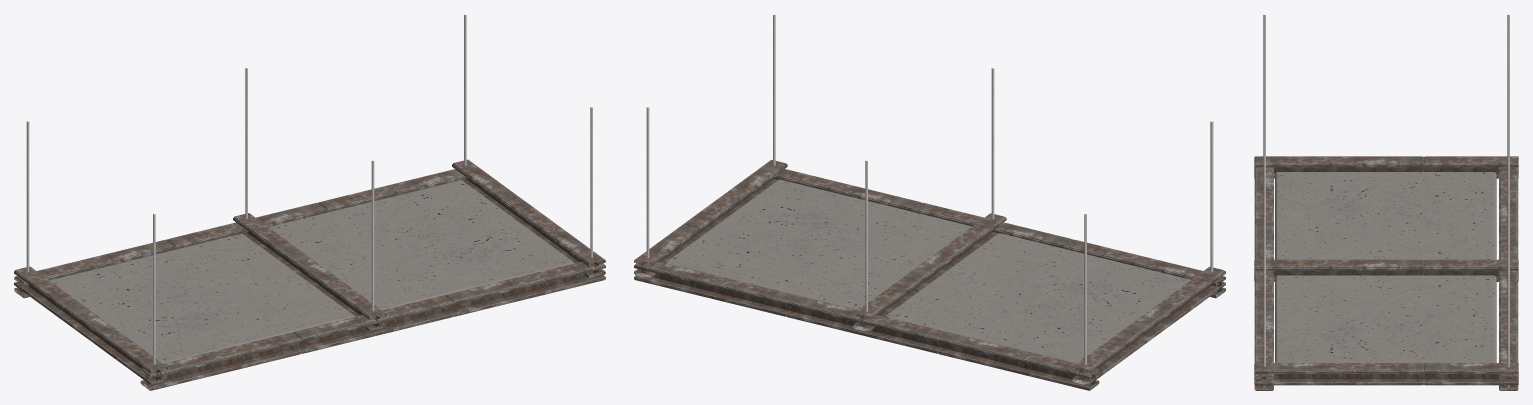
Rendered from SM_Ceiling_Scaffold_Half.glb.
3 views of the same model, side by side, from view 1: azimuth 30°, elevation 25°; view 2: azimuth 150°, elevation 25°; view 3: azimuth 270°, elevation 25° (orthographic). The views are drawn at different scales.
Parts seen in each view (by area): view 1: SM_Ceiling_Scaffold_Half; view 2: SM_Ceiling_Scaffold_Half; view 3: SM_Ceiling_Scaffold_Half.
Part boxes in pixels (<box>): SM_Ceiling_Scaffold_Half: <box>14,15,605,390</box>; SM_Ceiling_Scaffold_Half: <box>634,15,1225,390</box>; SM_Ceiling_Scaffold_Half: <box>1254,15,1518,390</box>.
Bounding box in the file's own units: 2.6 × 0.9392 × 1.35.
Materials: 3 (3 with a texture image).
